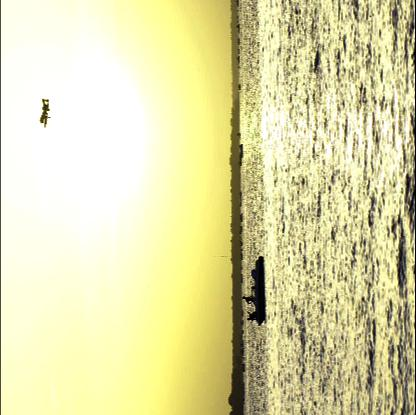A10: (39, 98, 50, 127)
